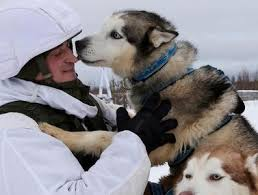Bulldog: (77, 10, 238, 100)
